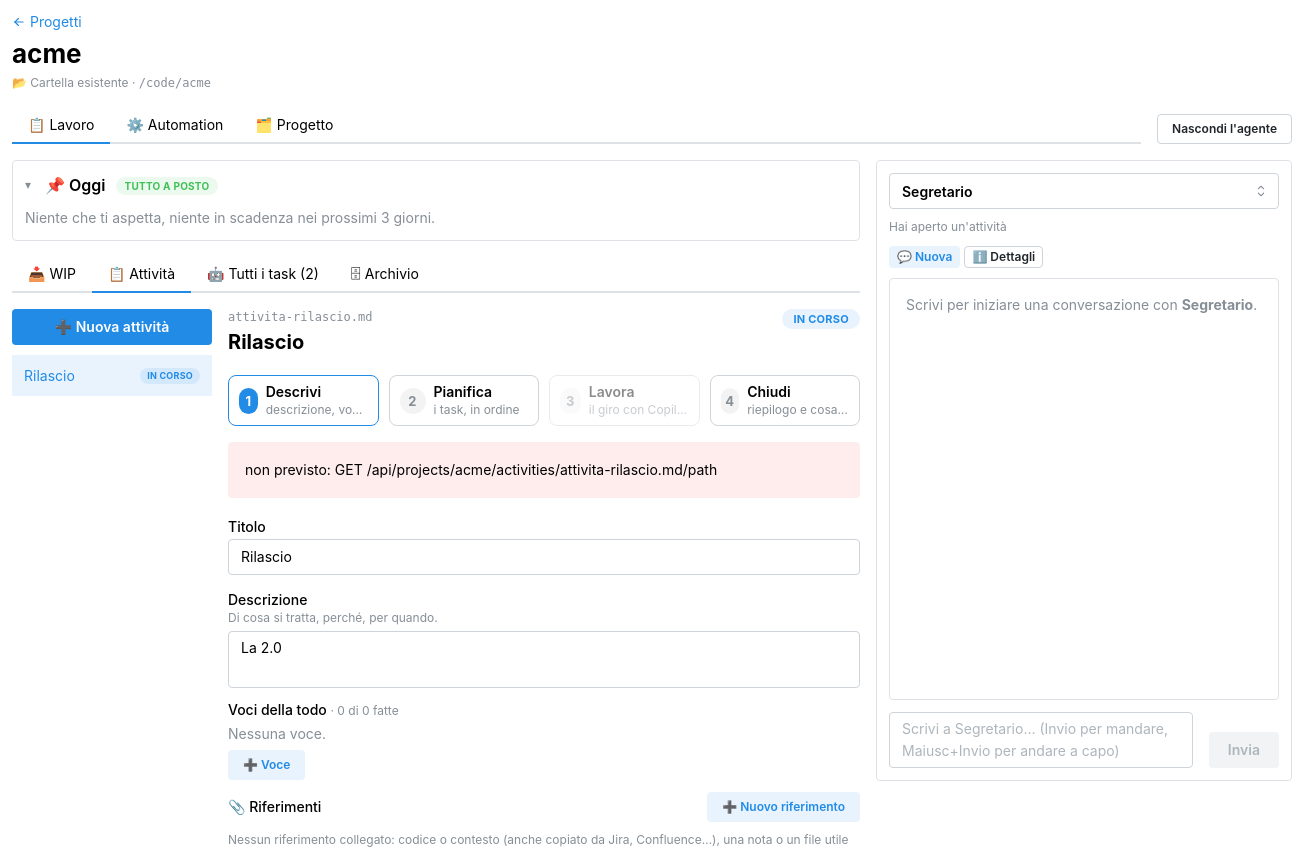
Test: the agent of what is open › a hand-picked agent lasts until what is open changes
This screenshot has width=1304, height=850.
Click the field named "Agente". click: coordinates (1084, 191)
box: [889,173,1279,209]
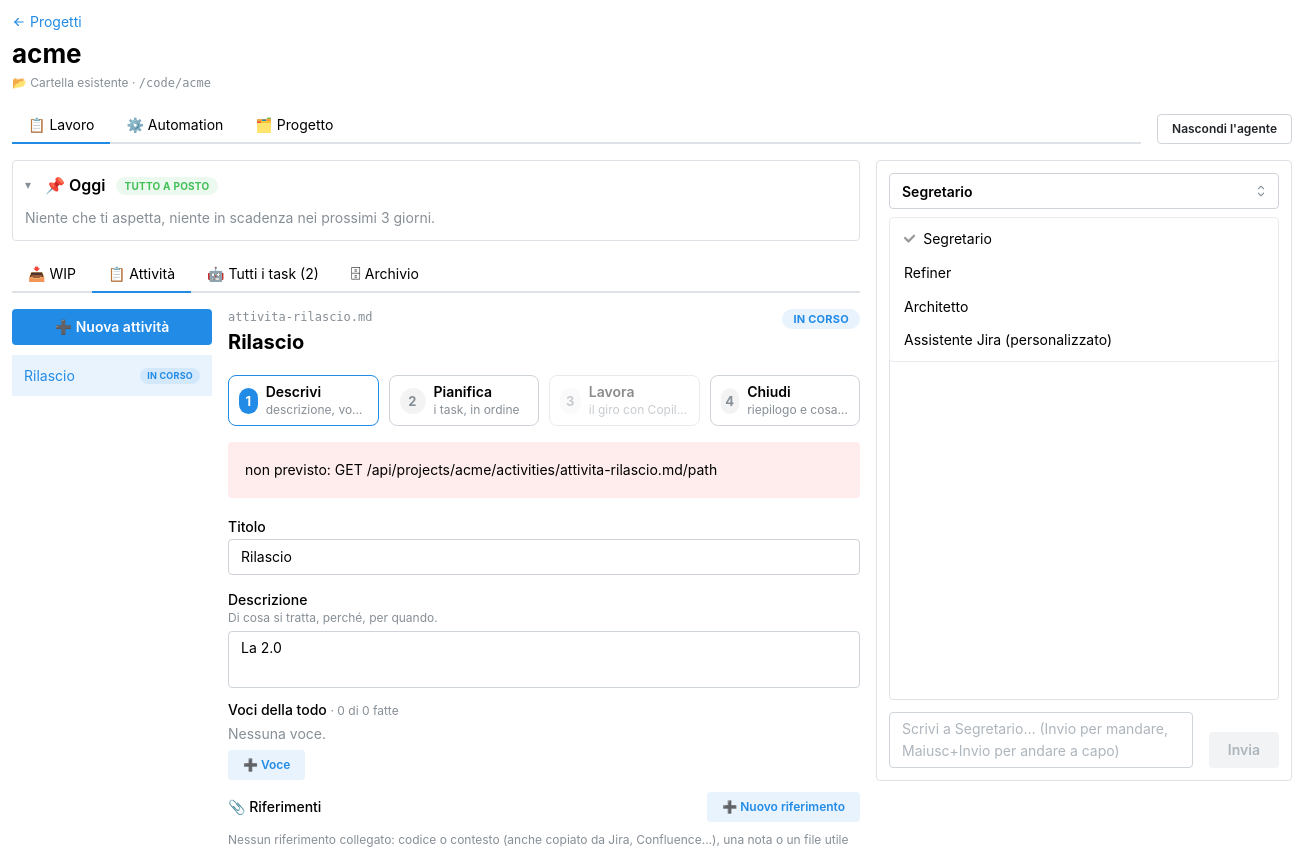
Click the option "Assistente Jira (personalizzato)". click: coordinates (1008, 340)
box: [904,331,1112,348]
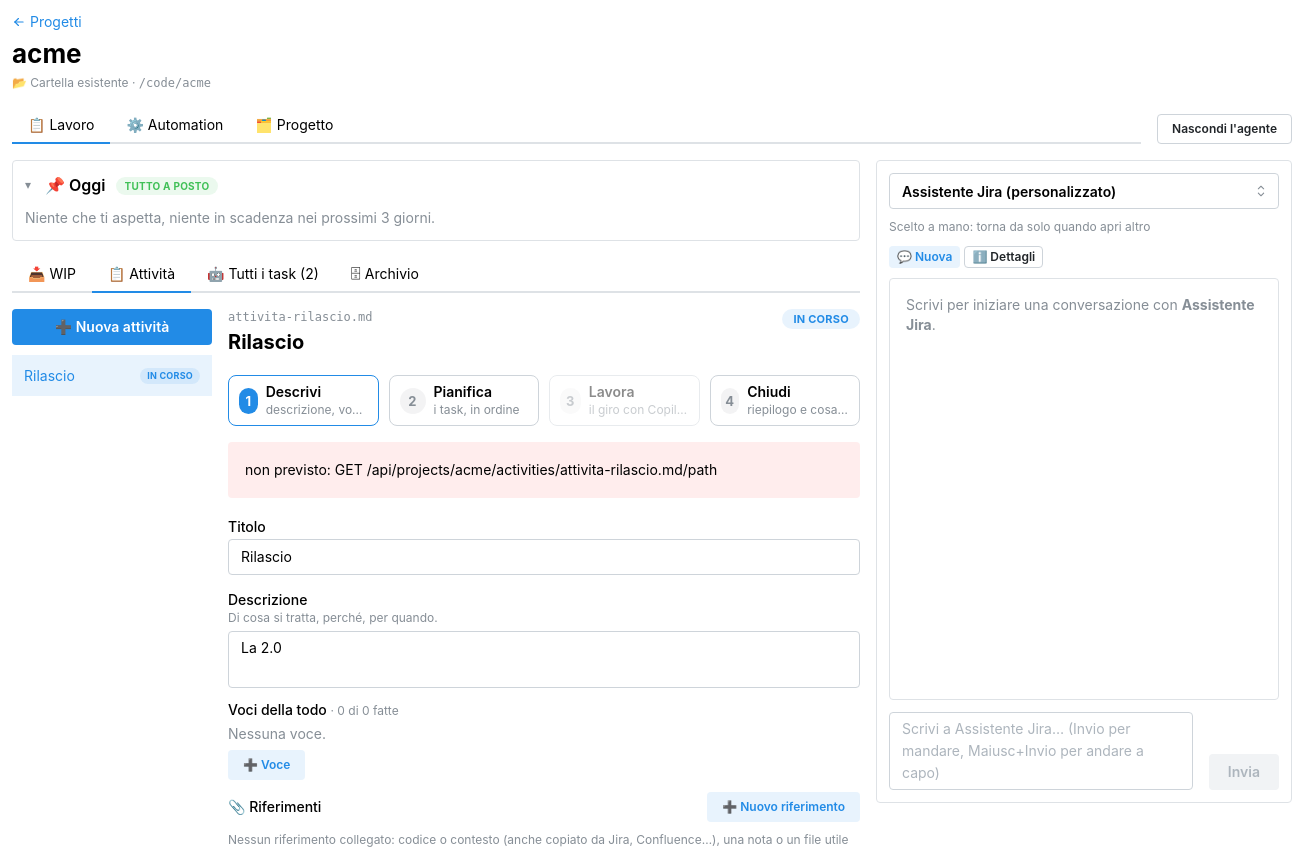
expect the field named "Agente" holds "Assistente Jira (personalizzato)": met, box [889,173,1279,209]
expect the text "Scelto a mano: torna da solo quando apri altro" is shown: met, box [889,219,1150,234]
Click the tab "🤖 Tutti i task (2)". click: coordinates (263, 275)
box: [191,257,335,293]
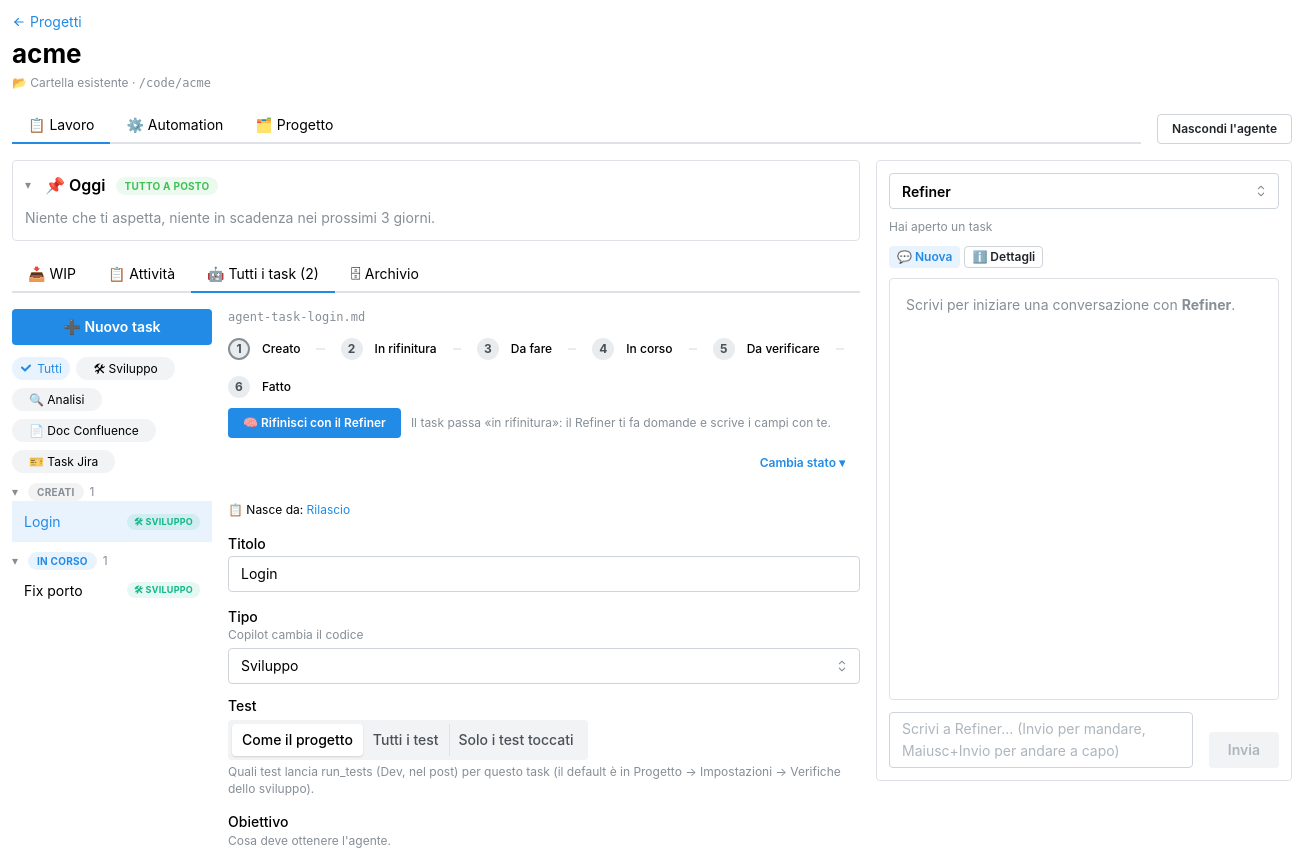
expect the field named "Agente" does not hold "Assistente Jira (personalizzato)": met, box [889,173,1279,209]
